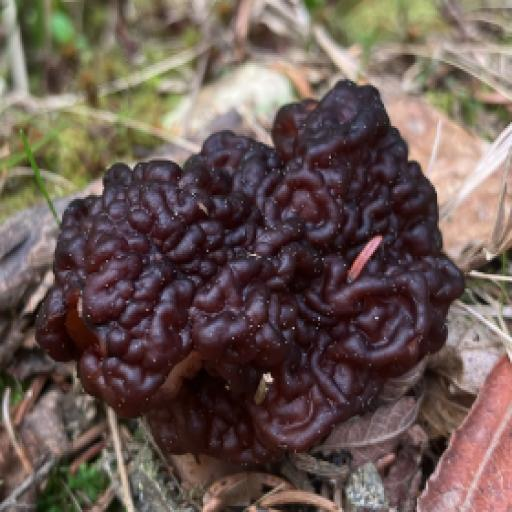mushroom: (36, 79, 469, 478)
